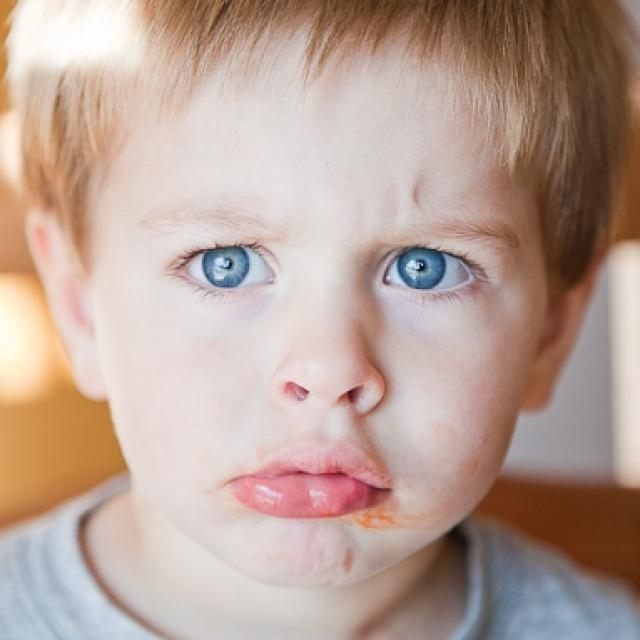Depress: (90, 38, 563, 588)
